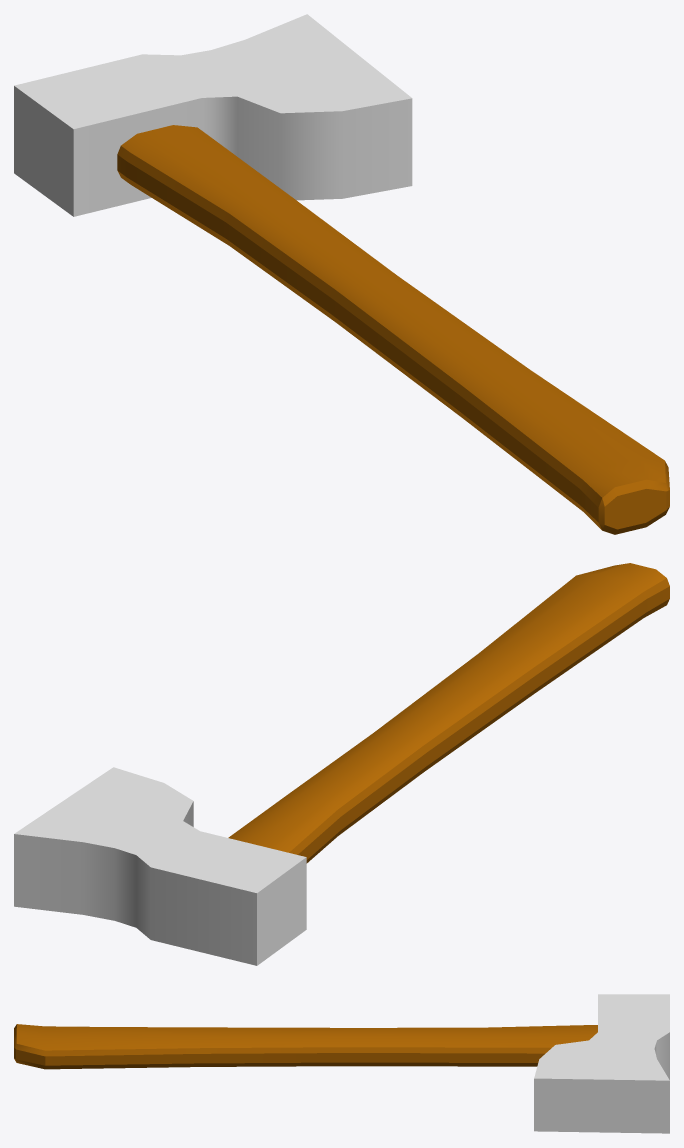
File: Hammer_01.fbx
3 views of the same model, one above another, from view 1: azimuth 30°, elevation 25°; view 2: azimuth 150°, elevation 25°; view 3: azimuth 270°, elevation 25° (orthographic). The views are drawn at different scales.
Visible parts, largest first — view 1: Hammer_01; view 2: Hammer_01; view 3: Hammer_01.
Part boxes in pixels (x1=…): Hammer_01: x1=14, y1=14, x2=669, y2=534; Hammer_01: x1=14, y1=563, x2=669, y2=965; Hammer_01: x1=14, y1=994, x2=669, y2=1133.
Size of the model in its own units: 3.5 by 1 by 11.24.
